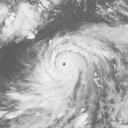cyclone: (38, 34, 97, 95)
